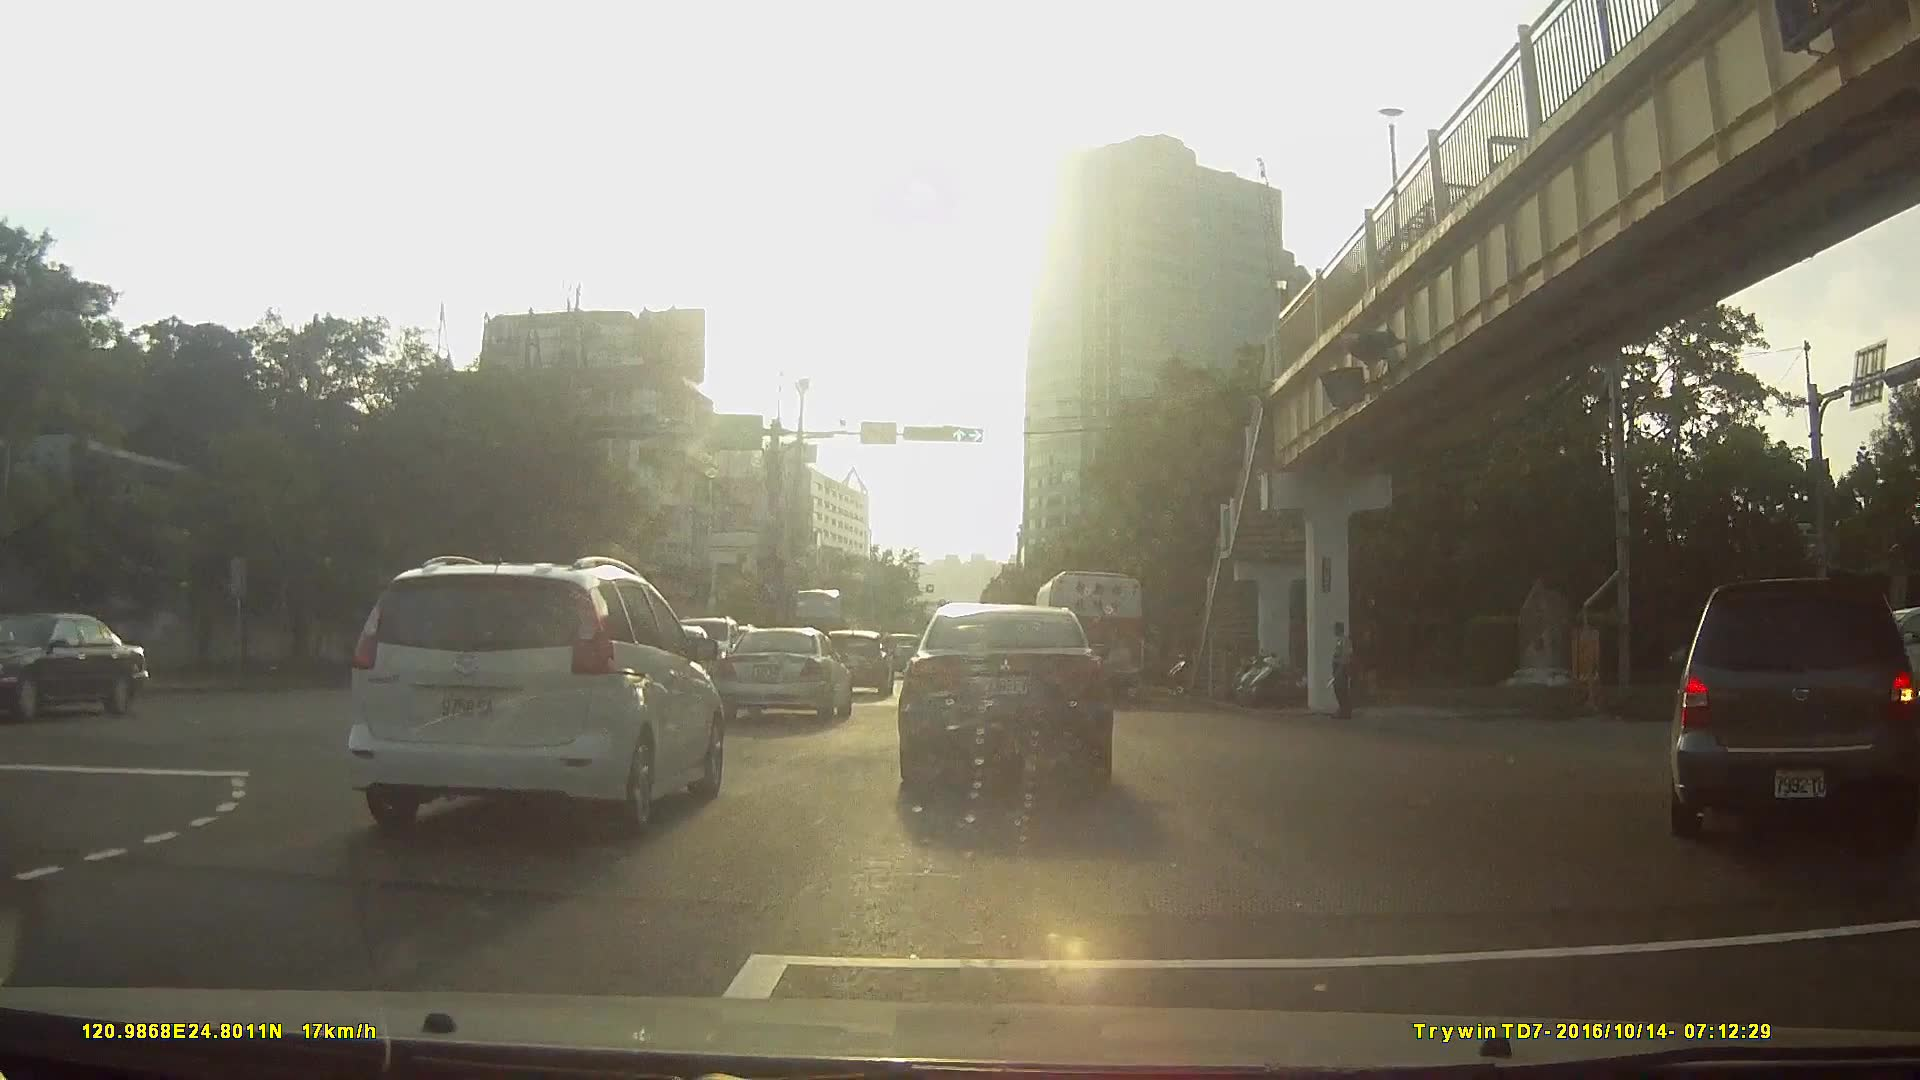pedestrian: (1325, 615, 1364, 724)
vehicle: (344, 551, 723, 836), (1666, 573, 1913, 846), (898, 600, 1113, 798), (1, 616, 168, 723), (1032, 567, 1141, 702), (714, 626, 853, 724), (815, 625, 890, 695)
